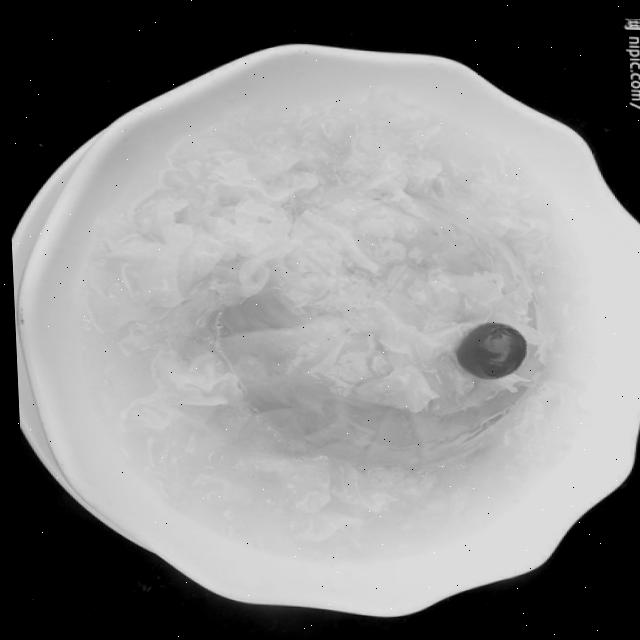米饭主食: (1, 21, 640, 624)
